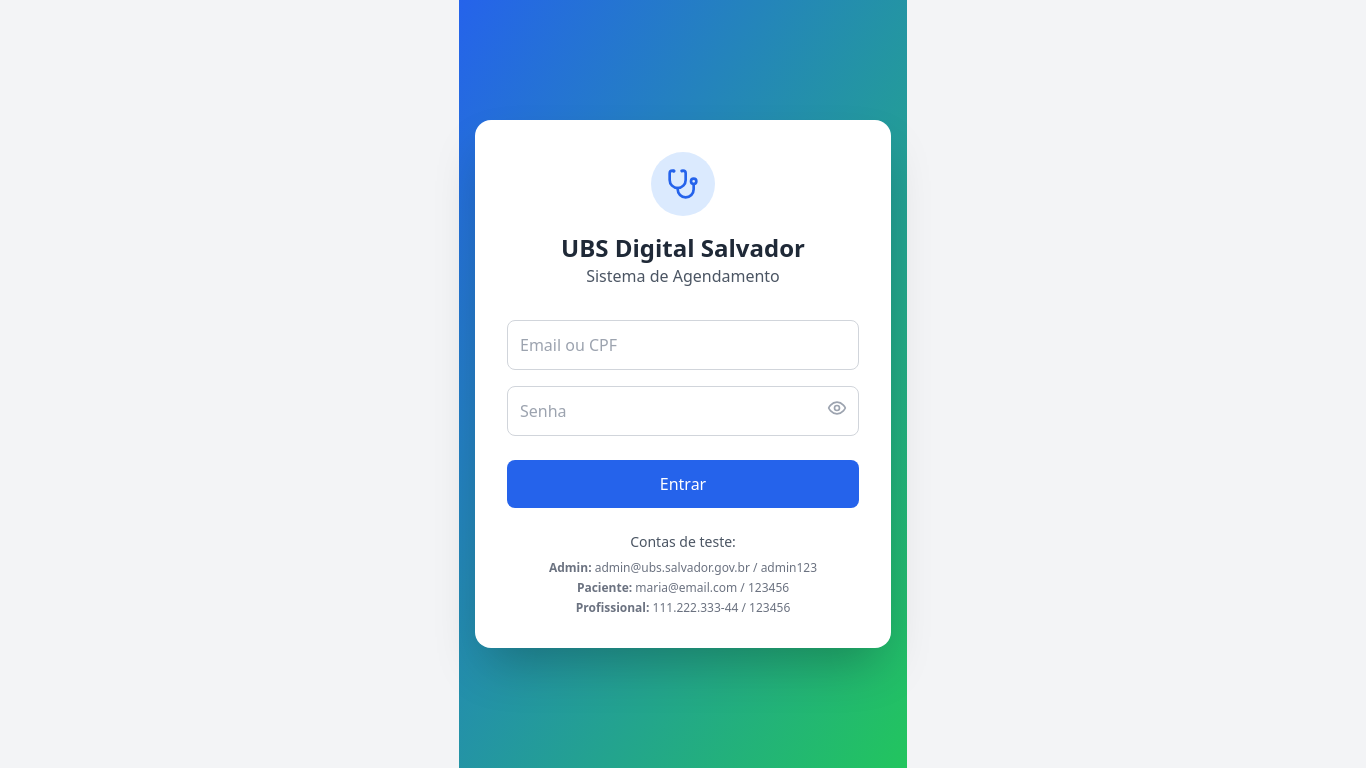
Scenario: Agendamento de Consultas - UBS Digital Salvador › Agendamento pelo Paciente › Deve filtrar profissionais pela UBS selecionada
This screenshot has width=1366, height=768.
In the field with test id "input-email": (683, 345) [507,320,859,370], type "maria@email.com"
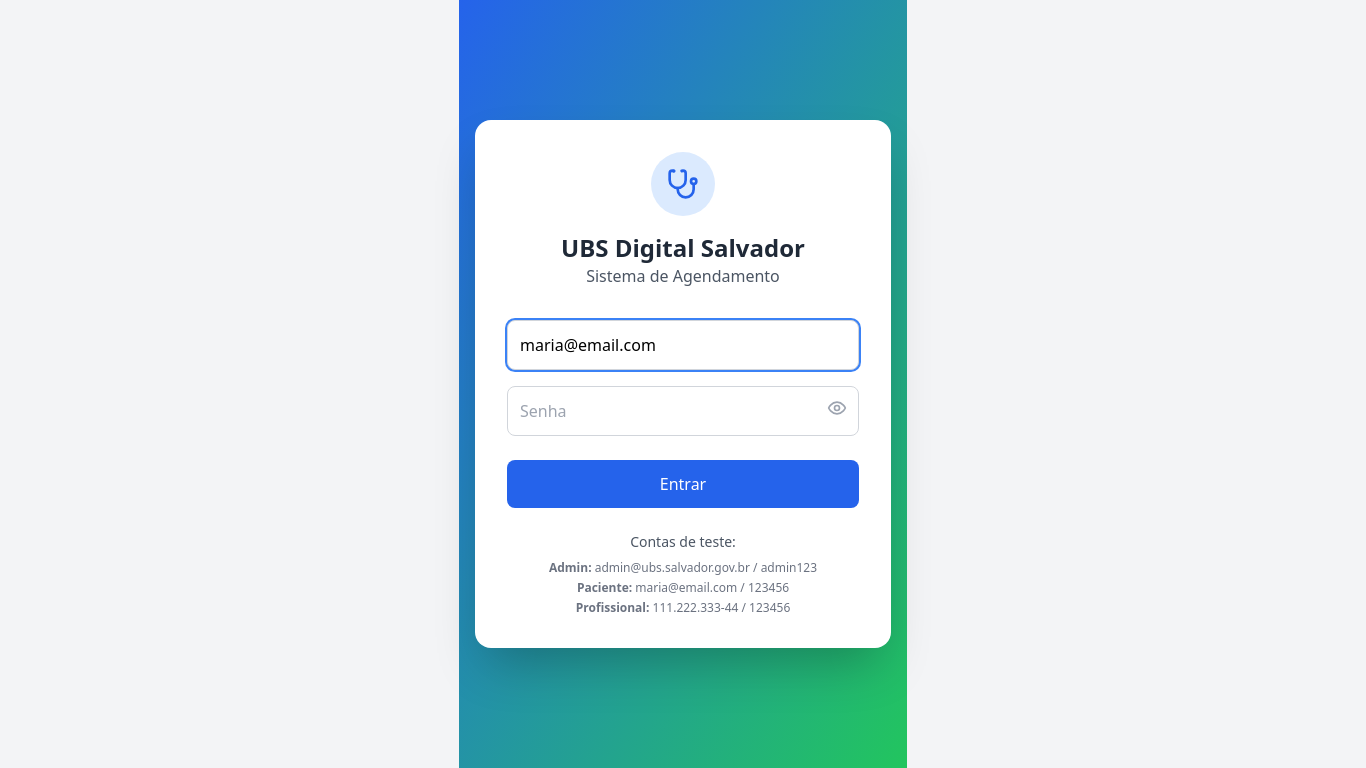
In the password field with test id "input-password": (683, 411) [507,386,859,436], type "123456"
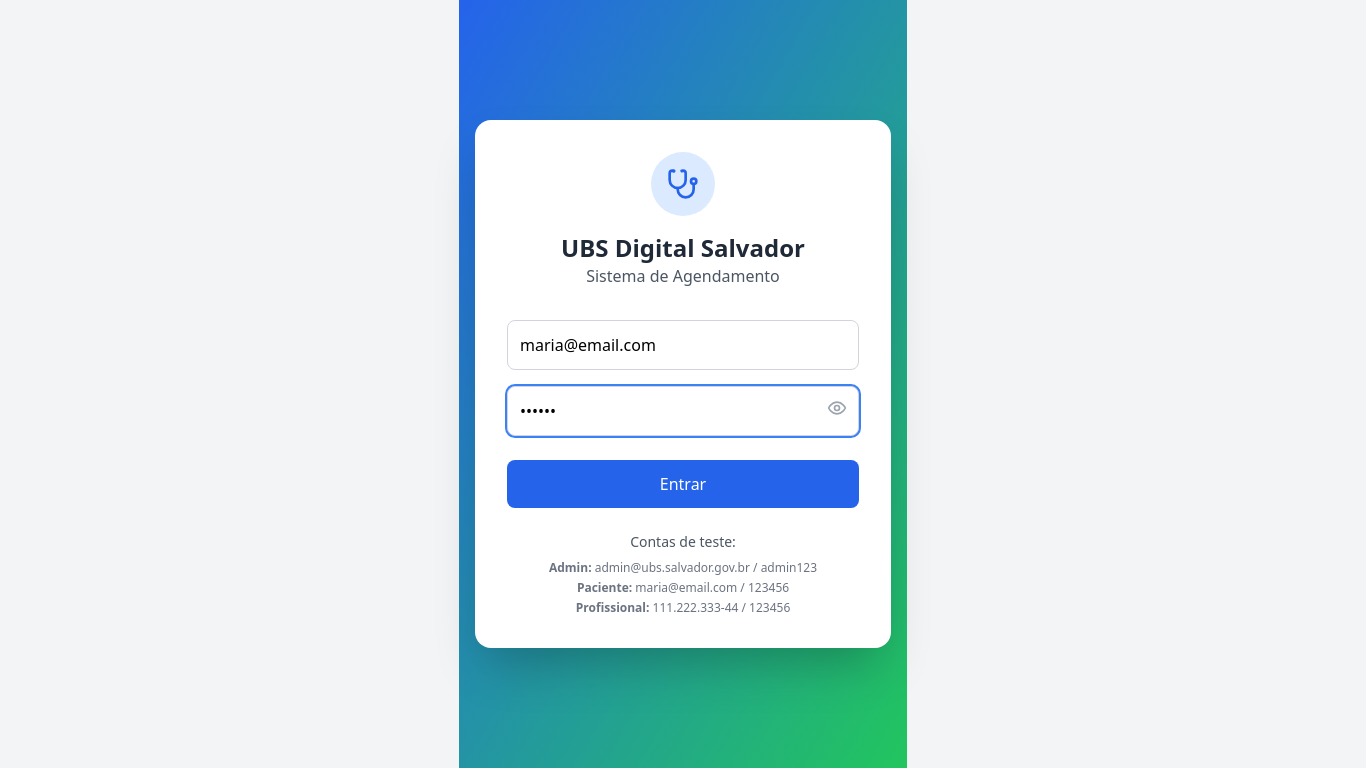
Click the button with test id "btn-login": (683, 484) [507,460,859,508]
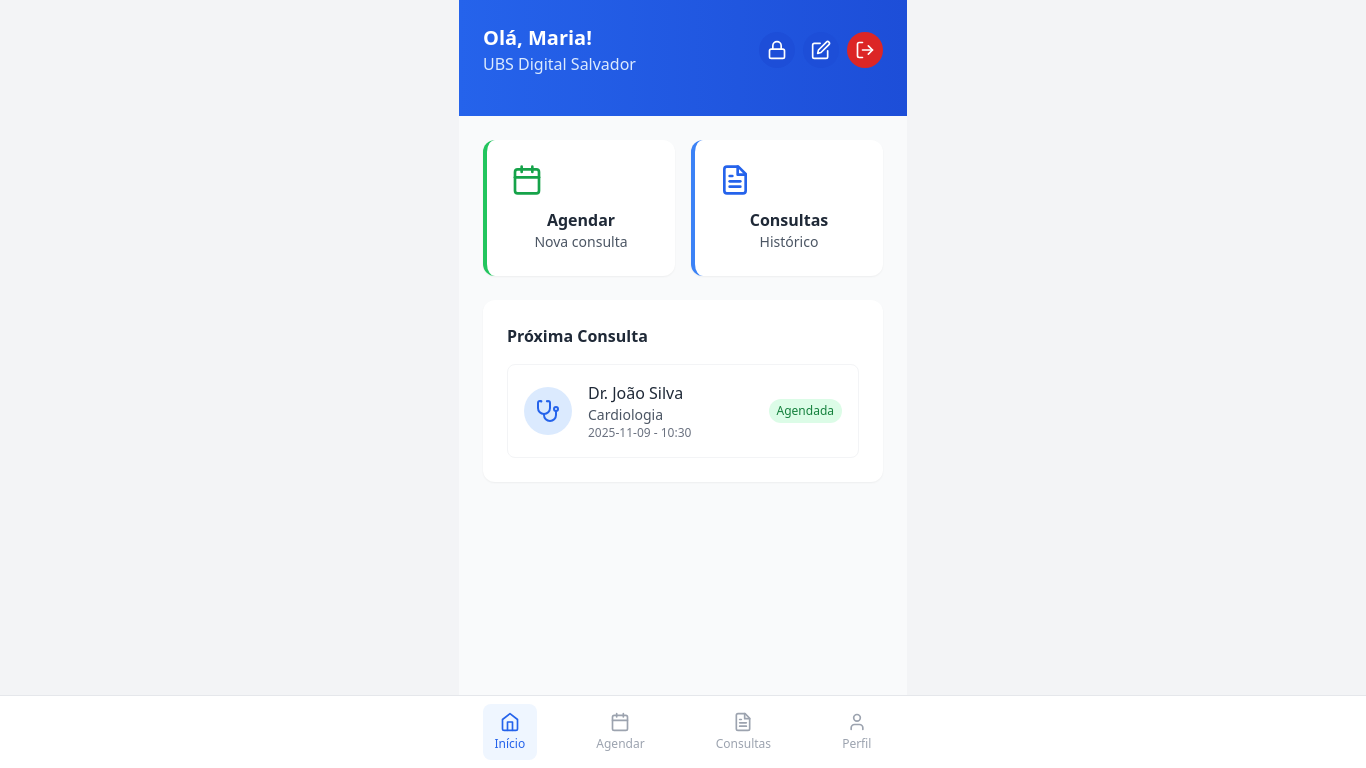
Result: the heading "Olá, Maria!" is shown at [483,24,592,51]
Click the button with test id "btn-schedule": (579, 208) [483,140,675,276]
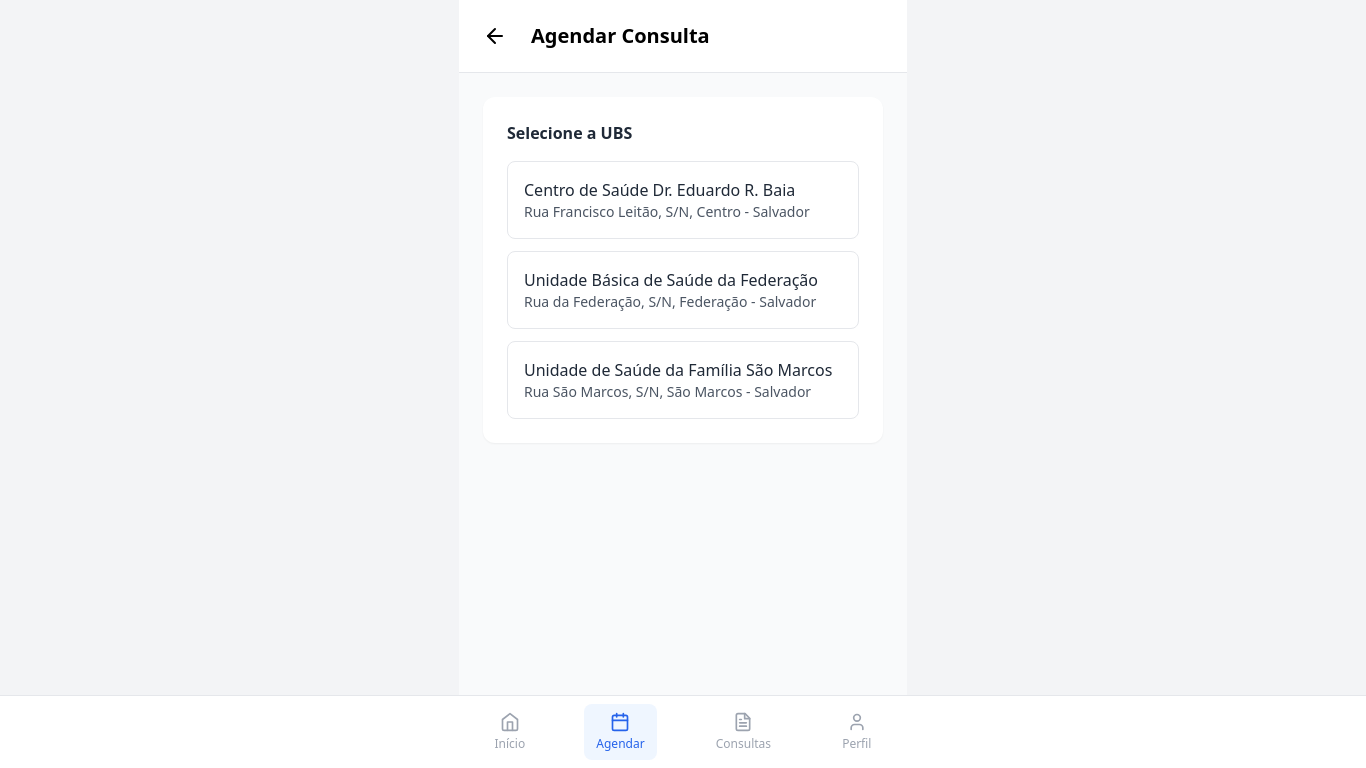
Click the button "Unidade Básica de Saúde da Federação": (683, 290) [507,251,859,329]
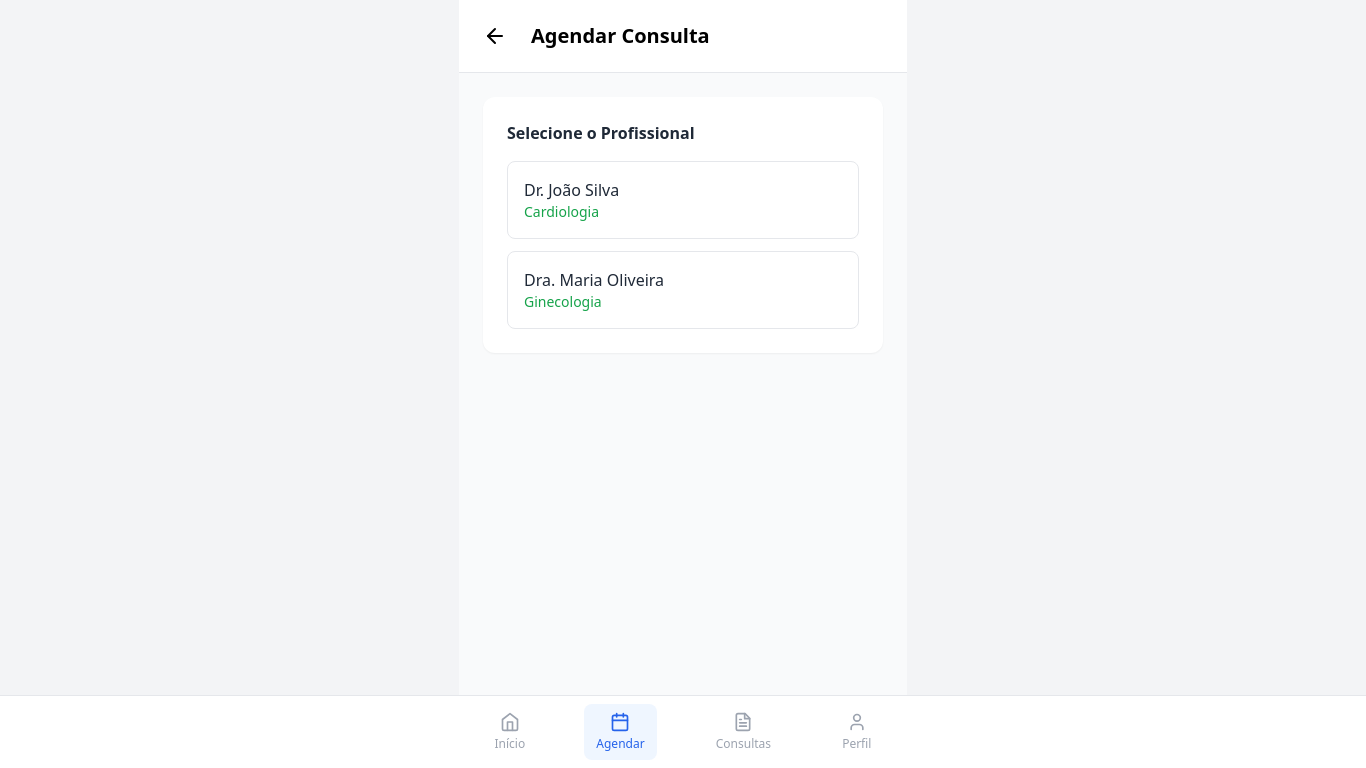
Result: the button "Dr. João Silva Cardiologia" is shown at [507,161,859,239]
Result: the button "Dra. Maria Oliveira Ginecologia" is shown at [507,251,859,329]
